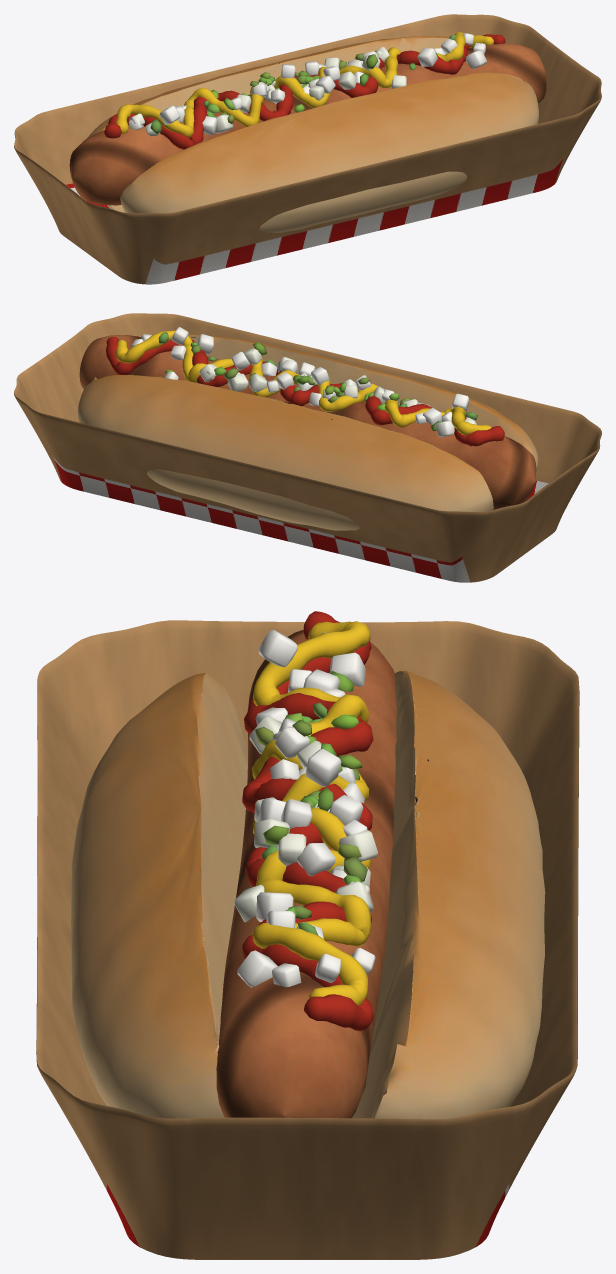
File: classic-hotdog.glb
3 renders of one model, top to bottom at view 1: azimuth 30°, elevation 25°; view 2: azimuth 150°, elevation 25°; view 3: azimuth 270°, elevation 25°, orthographic. The views are drawn at different scales.
Visible parts, largest first — view 1: base, bun, sausage, white-onion, mustard, ketchup, relish; view 2: base, bun, sausage, white-onion, mustard, ketchup, relish; view 3: bun, base, sausage, white-onion, mustard, ketchup, relish.
Part boxes in pixels (left/top/right/bottom): base: left=14, top=14, right=601, bottom=284; bun: left=87, top=36, right=538, bottom=232; sausage: left=69, top=43, right=546, bottom=205; white-onion: left=128, top=33, right=486, bottom=135; mustard: left=116, top=32, right=493, bottom=137; ketchup: left=104, top=34, right=505, bottom=149; relish: left=150, top=34, right=456, bottom=134; base: left=14, top=313, right=601, bottom=582; bun: left=77, top=334, right=538, bottom=530; sausage: left=79, top=335, right=536, bottom=509; white-onion: left=131, top=327, right=476, bottom=437; mustard: left=115, top=330, right=491, bottom=435; ketchup: left=106, top=337, right=504, bottom=446; relish: left=158, top=332, right=477, bottom=430; bun: left=71, top=670, right=545, bottom=1119; base: left=36, top=620, right=579, bottom=1259; sausage: left=216, top=630, right=396, bottom=1118; white-onion: left=234, top=629, right=377, bottom=987; mustard: left=251, top=621, right=371, bottom=1005; ketchup: left=242, top=611, right=373, bottom=1031; relish: left=255, top=671, right=367, bottom=958.
Bounding box in the file's own units: 0.2046 × 0.0543 × 0.0941.
7 materials, 3 textured.
